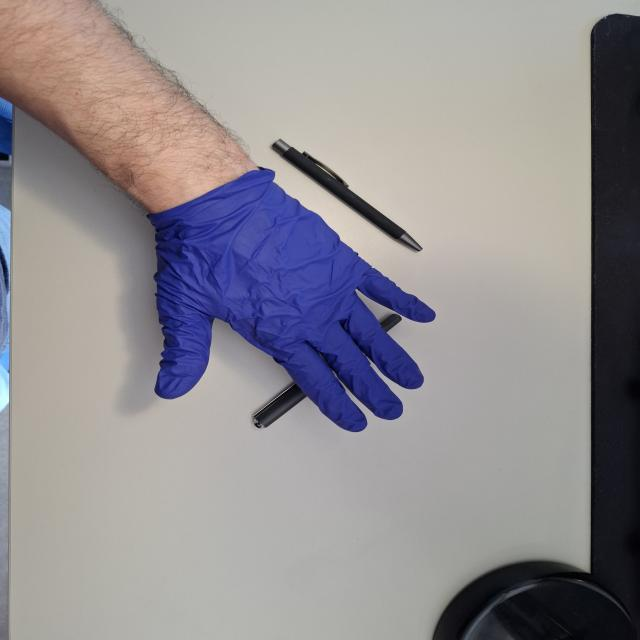glove_on: (146, 164, 440, 434)
